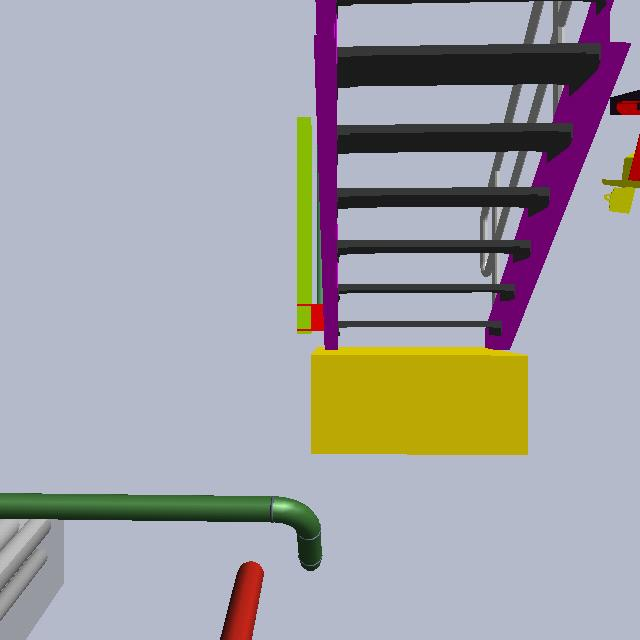Poste: (310, 65, 332, 326)
Soporte: (284, 107, 352, 339)
